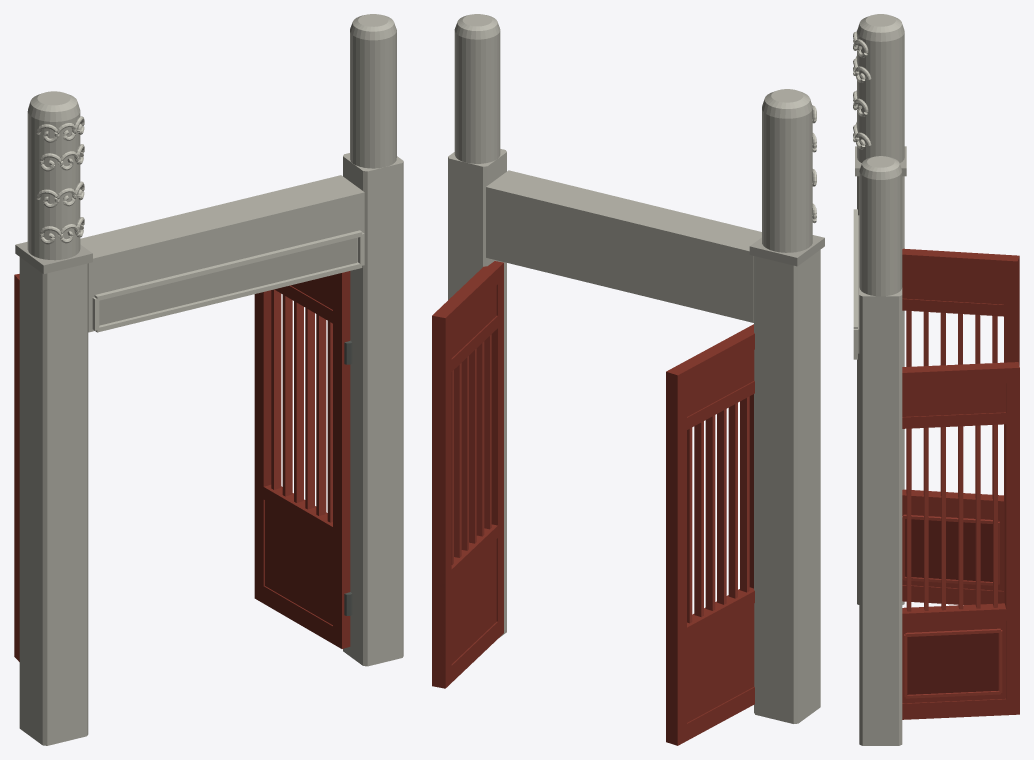
File: chongming-lingxing-photo-left-gate-web.glb
3 renders of one model, left to right at view 1: azimuth 30°, elevation 25°; view 2: azimuth 150°, elevation 25°; view 3: azimuth 270°, elevation 25°, orthographic. The views are drawn at different scales.
Bounding box in the file's own units: 3.03 × 5.04 × 1.33.
